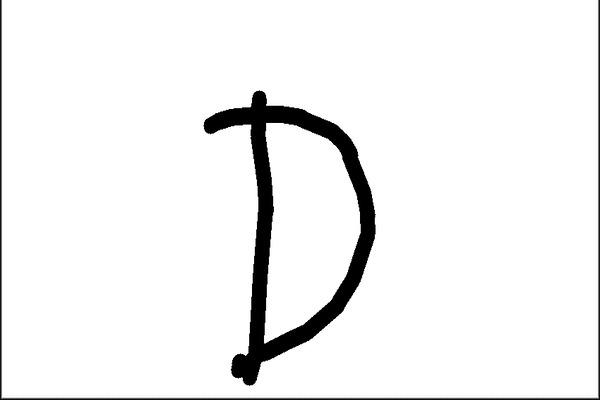D: (198, 86, 385, 389)
